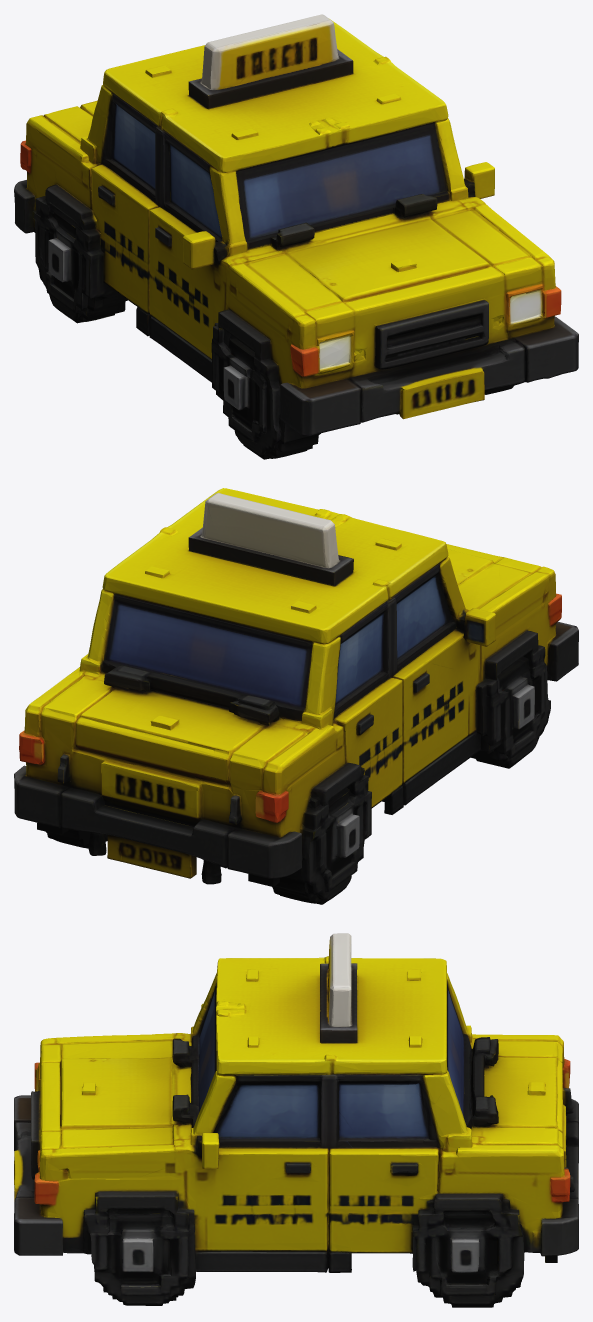
File: Cab.glb
3 renders of one model, top to bottom at view 1: azimuth 30°, elevation 25°; view 2: azimuth 150°, elevation 25°; view 3: azimuth 270°, elevation 25°, orthographic. The views are drawn at different scales.
Visible parts, largest first — view 1: geometry_0.002; view 2: geometry_0.002; view 3: geometry_0.002.
Part boxes in pixels (x1=…): geometry_0.002: x1=14, y1=14, x2=578, y2=459; geometry_0.002: x1=14, y1=488, x2=578, y2=904; geometry_0.002: x1=14, y1=933, x2=578, y2=1307.
Bounding box in the file's own units: 0.5885 × 0.5608 × 1.
1 material, 1 textured.
